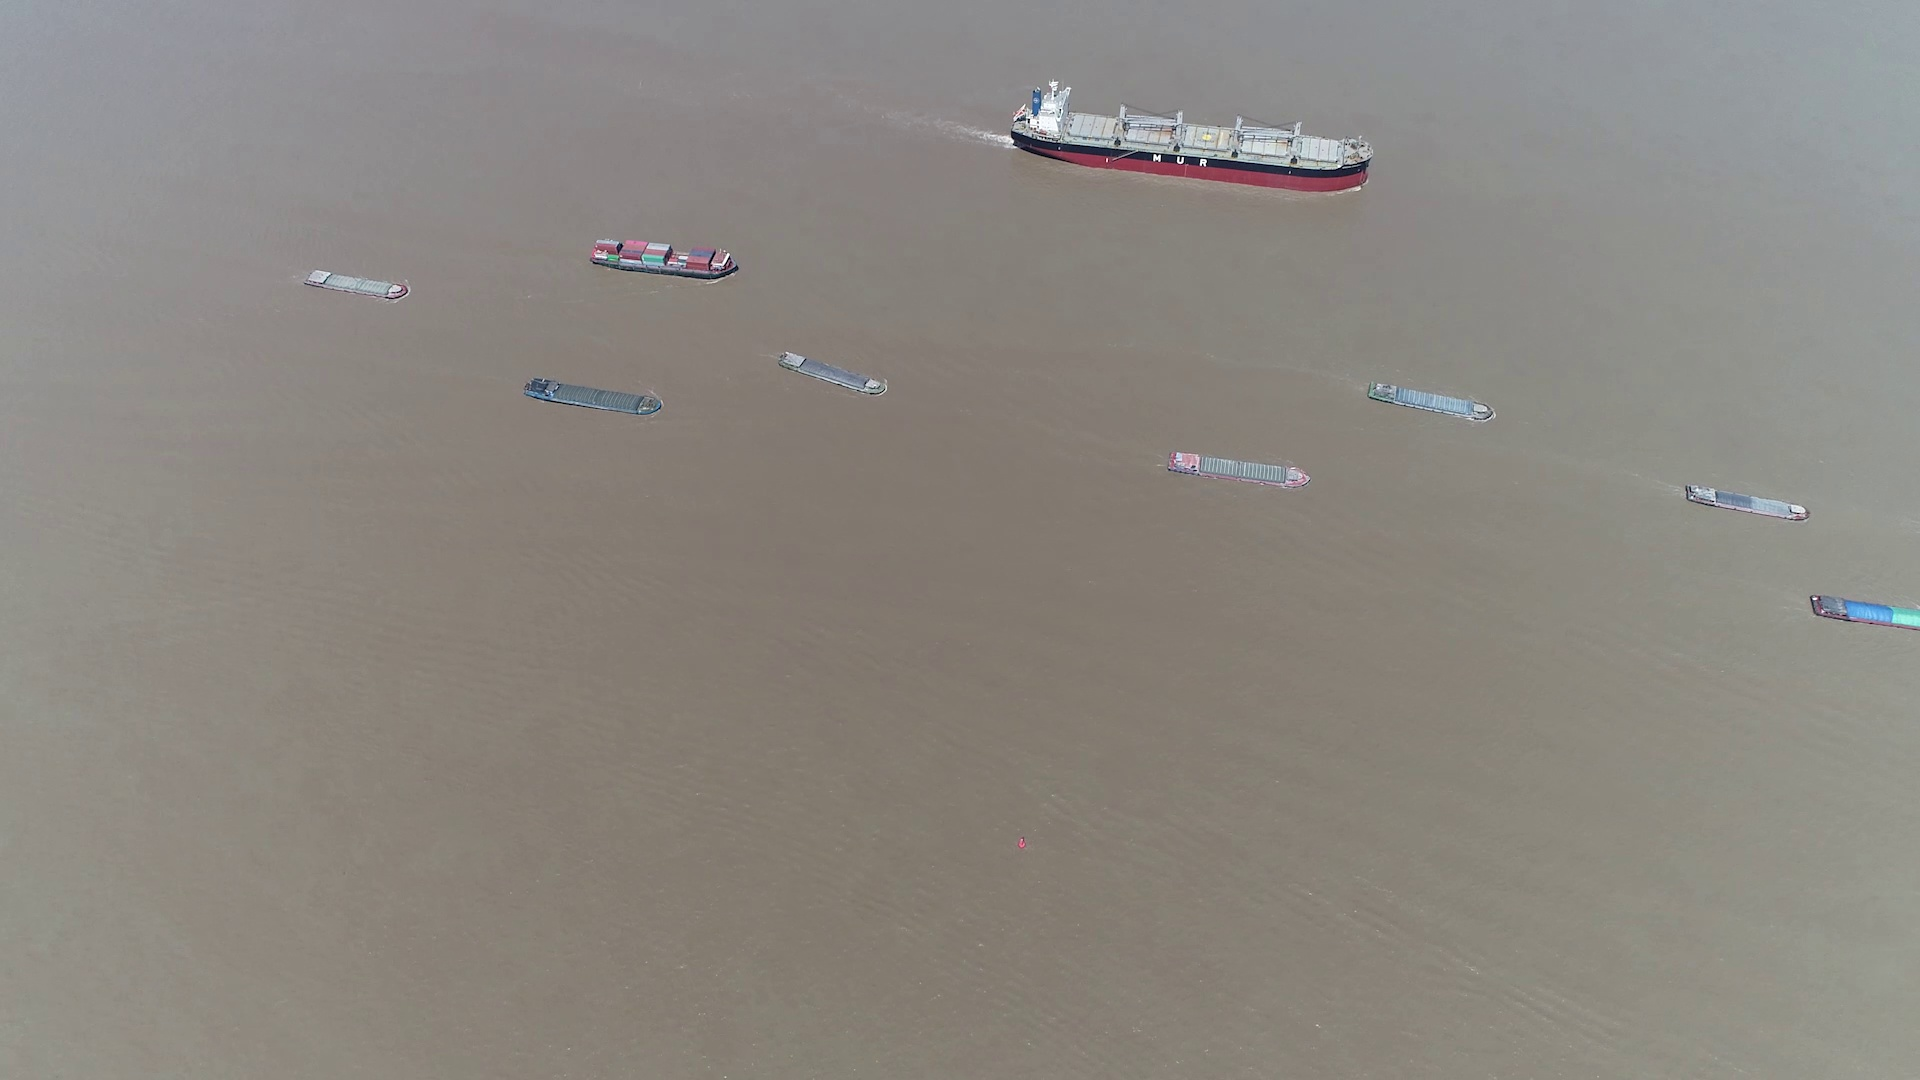ship: (1011, 86, 1367, 190), (589, 239, 741, 278), (1163, 448, 1311, 488), (1367, 378, 1495, 422), (1683, 483, 1811, 524), (522, 378, 659, 415), (778, 351, 887, 397), (1809, 593, 1919, 632), (302, 268, 409, 301)
